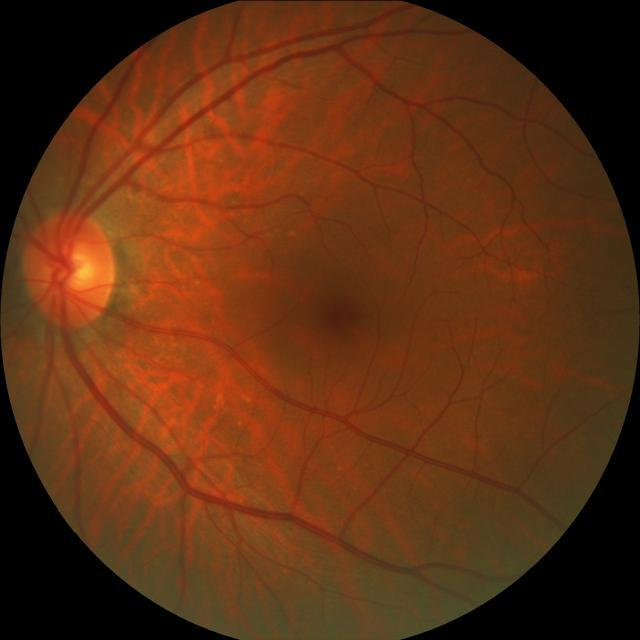OC: (44, 242, 96, 294)
OD: (24, 208, 118, 326)
